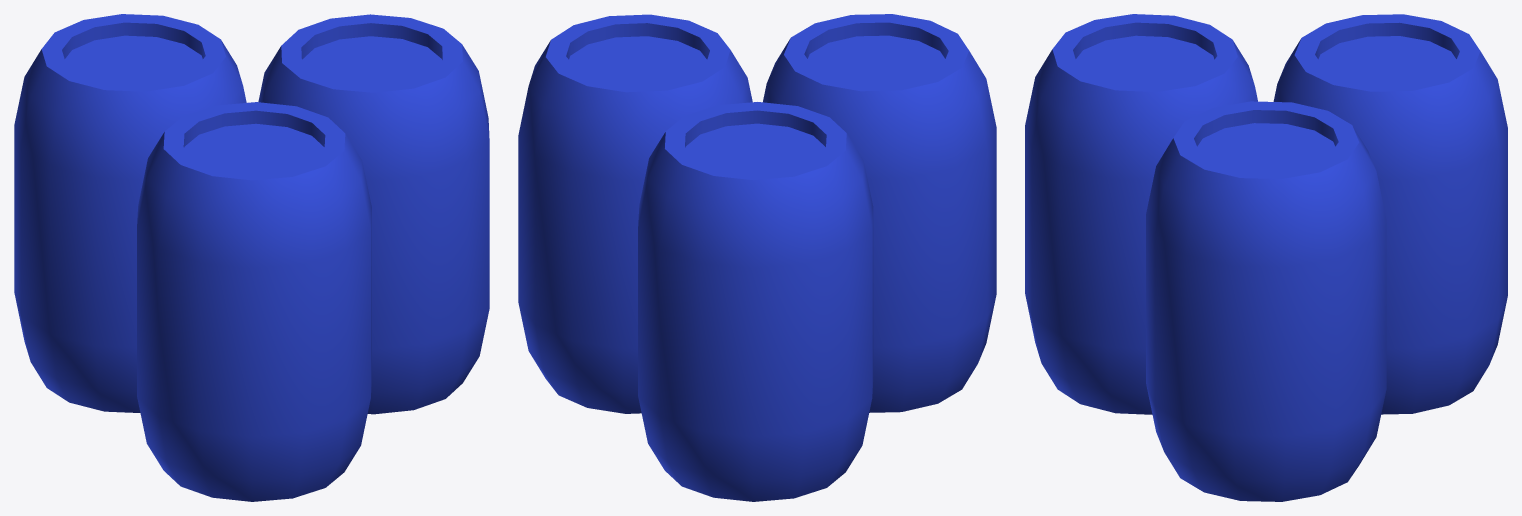
Rendered from barrel1.fbx.
3 views of the same model, side by side, from view 1: azimuth 30°, elevation 25°; view 2: azimuth 150°, elevation 25°; view 3: azimuth 270°, elevation 25° (orthographic).
Parts seen in each view (by area): view 1: Cylinder.001; view 2: Cylinder.001; view 3: Cylinder.001.
Boxes of the visible parts, <box> form: Cylinder.001: <box>14,14,489,501</box>; Cylinder.001: <box>518,14,996,501</box>; Cylinder.001: <box>1025,14,1507,501</box>.
Size of the model in its own units: 150 by 120 by 163.
